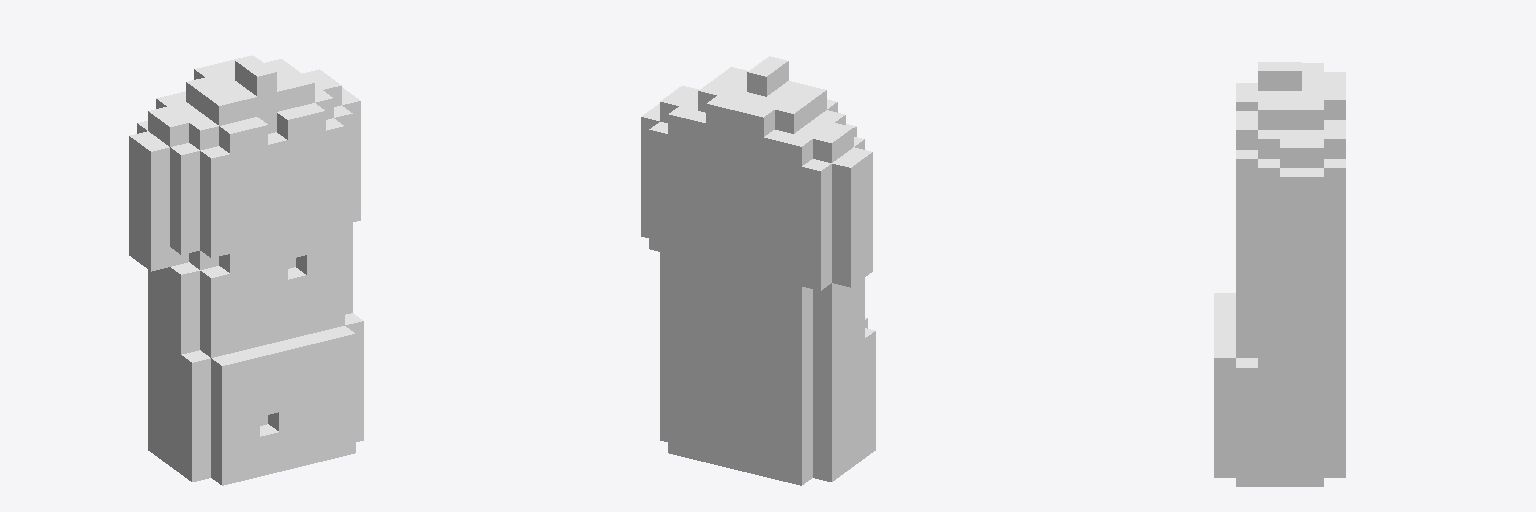
The model's file is Zed_1-0.obj.
The picture shows the model from 3 angles: view 1: azimuth 30°, elevation 25°; view 2: azimuth 150°, elevation 25°; view 3: azimuth 270°, elevation 25°; orthographic projection.
Visible parts, largest first — view 1: object 1; view 2: object 1; view 3: object 1.
Part boxes in pixels (x1,y1,x2,y2): object 1: (129,55,363,485); object 1: (641,56,875,485); object 1: (1214,62,1345,486).
Size of the model in its own units: 1.1 by 1.9 by 0.6.